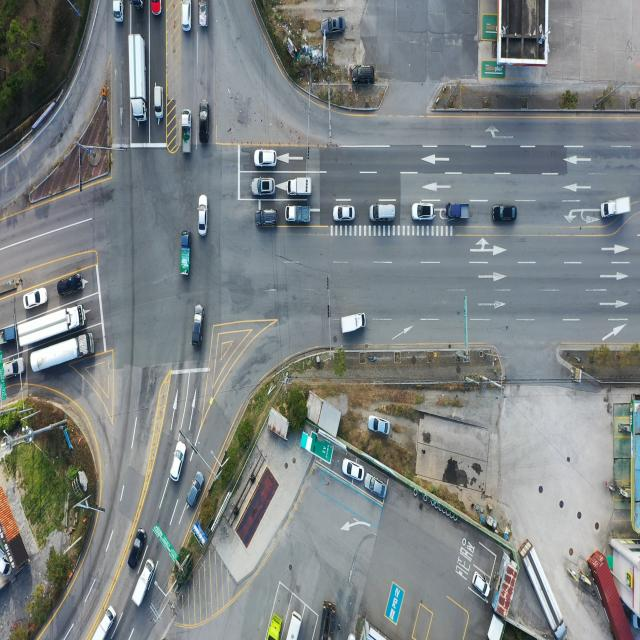car: (129, 529, 147, 570), (186, 470, 203, 509), (171, 441, 186, 482), (58, 275, 85, 297), (366, 475, 388, 502), (24, 287, 48, 309), (343, 459, 365, 482), (351, 64, 375, 84), (472, 573, 489, 601), (371, 204, 397, 222), (367, 416, 390, 436), (3, 358, 25, 378), (323, 17, 346, 36), (492, 205, 516, 223), (192, 305, 202, 348), (252, 178, 275, 196), (199, 194, 209, 235), (200, 104, 210, 145), (254, 148, 276, 166), (412, 204, 434, 222), (256, 209, 278, 227), (335, 205, 356, 222), (181, 0, 192, 32), (154, 86, 164, 120), (150, 0, 161, 15)
medium_truck: (522, 538, 568, 638), (14, 307, 84, 350), (28, 331, 95, 375), (129, 33, 149, 121), (322, 601, 338, 640)
small_bus: (287, 609, 301, 640)
small_truck: (132, 556, 156, 608), (92, 606, 117, 640), (601, 197, 631, 220), (340, 312, 366, 336), (284, 201, 311, 221), (287, 176, 313, 196), (181, 110, 192, 155), (180, 232, 190, 277), (266, 615, 284, 640), (445, 204, 468, 222), (0, 324, 17, 346), (199, 0, 210, 28), (113, 0, 124, 23)
